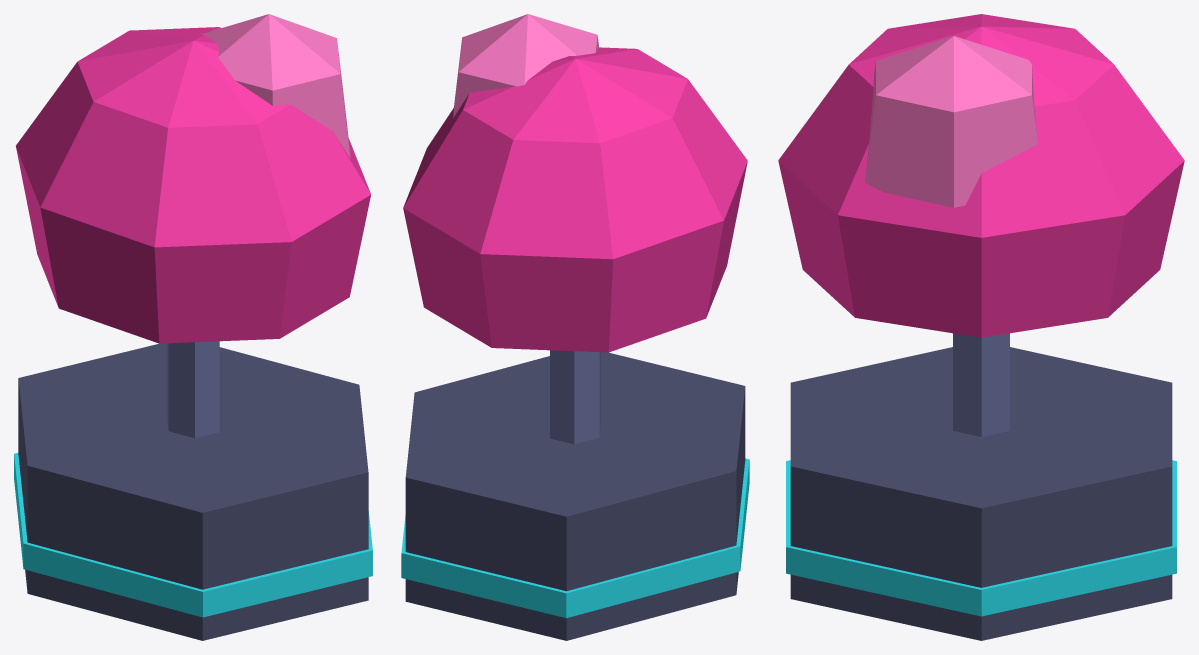
The model's file is env_r8_neon_planter.glb.
The picture shows the model from 3 angles, left to right: view 1: azimuth 30°, elevation 25°; view 2: azimuth 150°, elevation 25°; view 3: azimuth 270°, elevation 25°; orthographic projection. The views are drawn at different scales.
Visible parts, largest first — view 1: env_r8_neon_planter; view 2: env_r8_neon_planter; view 3: env_r8_neon_planter.
Part boxes in pixels (box(x1,y1,x2,y2)): env_r8_neon_planter: box(14, 14, 372, 640); env_r8_neon_planter: box(401, 14, 749, 640); env_r8_neon_planter: box(778, 14, 1184, 640).
Size of the model in its own units: 1.6 by 2.4 by 1.6.
1 material, 1 textured.
